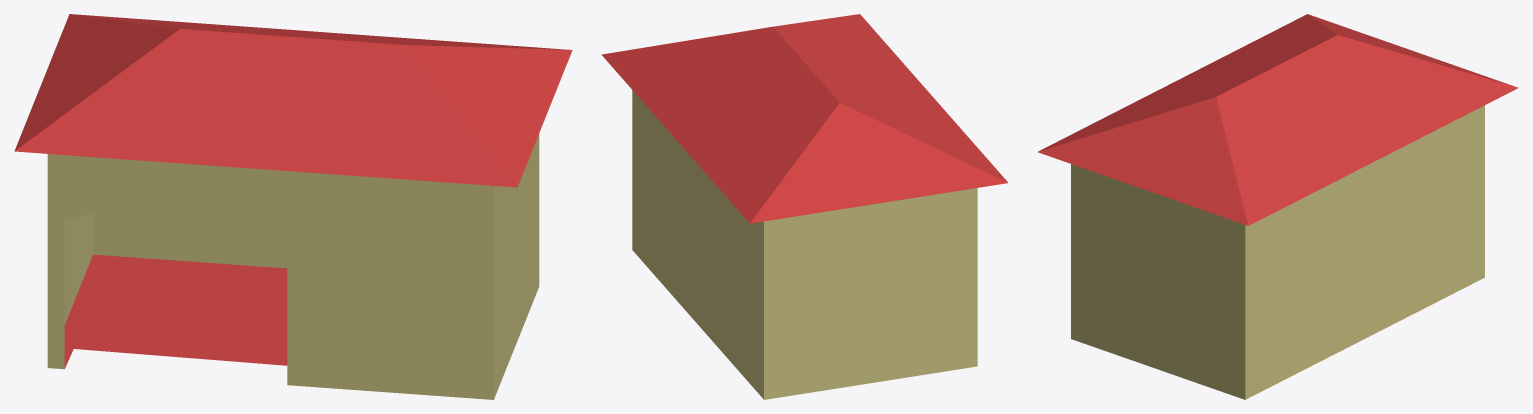
3 views of the same model, side by side, from view 1: azimuth 30°, elevation 25°; view 2: azimuth 150°, elevation 25°; view 3: azimuth 270°, elevation 25° (orthographic). The views are drawn at different scales.
Visible parts, largest first — view 1: group_5, group_3, group_6, group_4; view 2: group_5, group_3, group_4; view 3: group_5, group_3, group_4.
Part boxes in pixels (<box>): group_5: <box>47,133,539,399</box>; group_3: <box>28,17,538,187</box>; group_6: <box>64,254,287,368</box>; group_4: <box>14,14,572,187</box>; group_5: <box>632,90,977,399</box>; group_3: <box>632,14,999,211</box>; group_4: <box>602,15,1007,223</box>; group_5: <box>1071,105,1484,399</box>; group_3: <box>1038,17,1484,220</box>; group_4: <box>1038,14,1518,225</box>.
Bounding box in the file's own units: 20.89 × 20.06 × 11.11.
